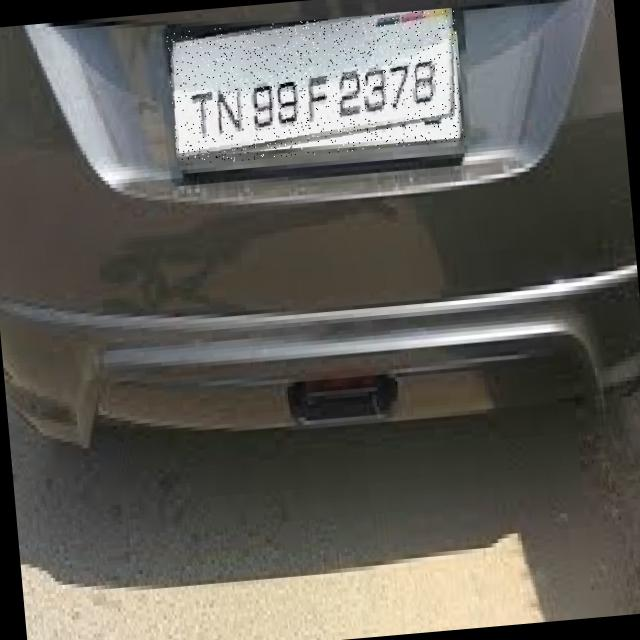Plate: (166, 8, 466, 167)
